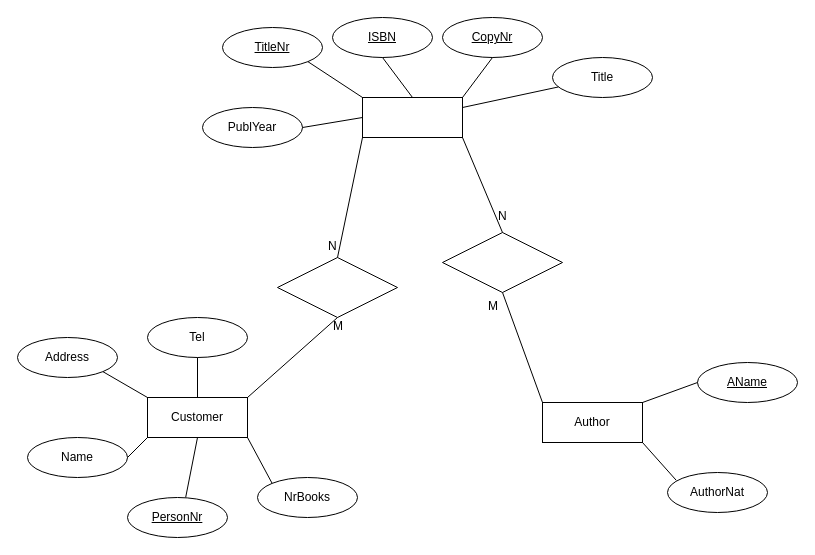
This 815x555 diagram has some shape labels left out. Each missing label, with the centre of its shape:
Book: point 412,117
LOAN: point 337,287
Written_BY: point 502,262
